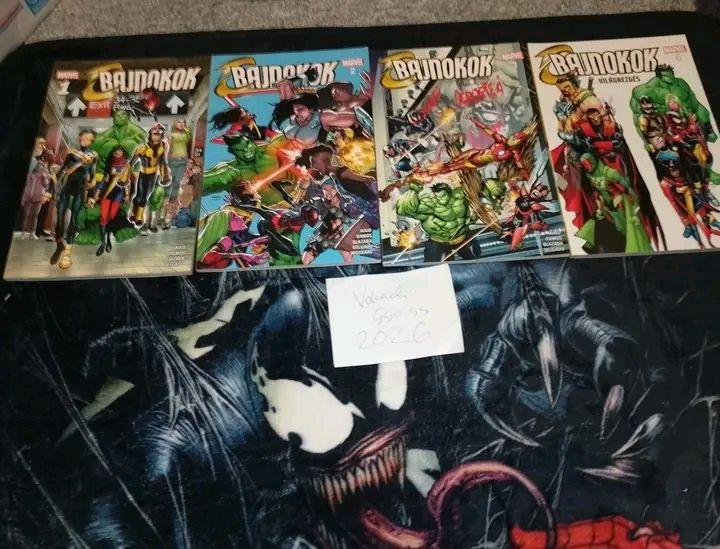comic: (4, 46, 210, 291), (528, 12, 720, 274), (370, 40, 566, 266), (186, 47, 380, 271)
